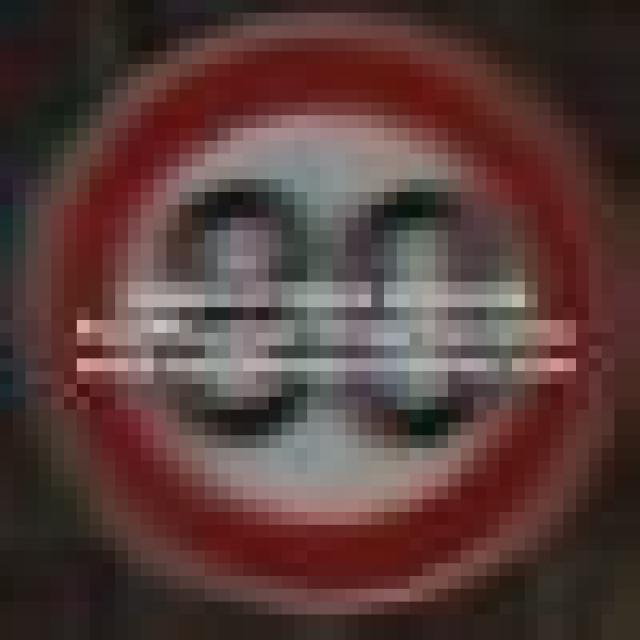speed_limit_50: (12, 26, 602, 588)
